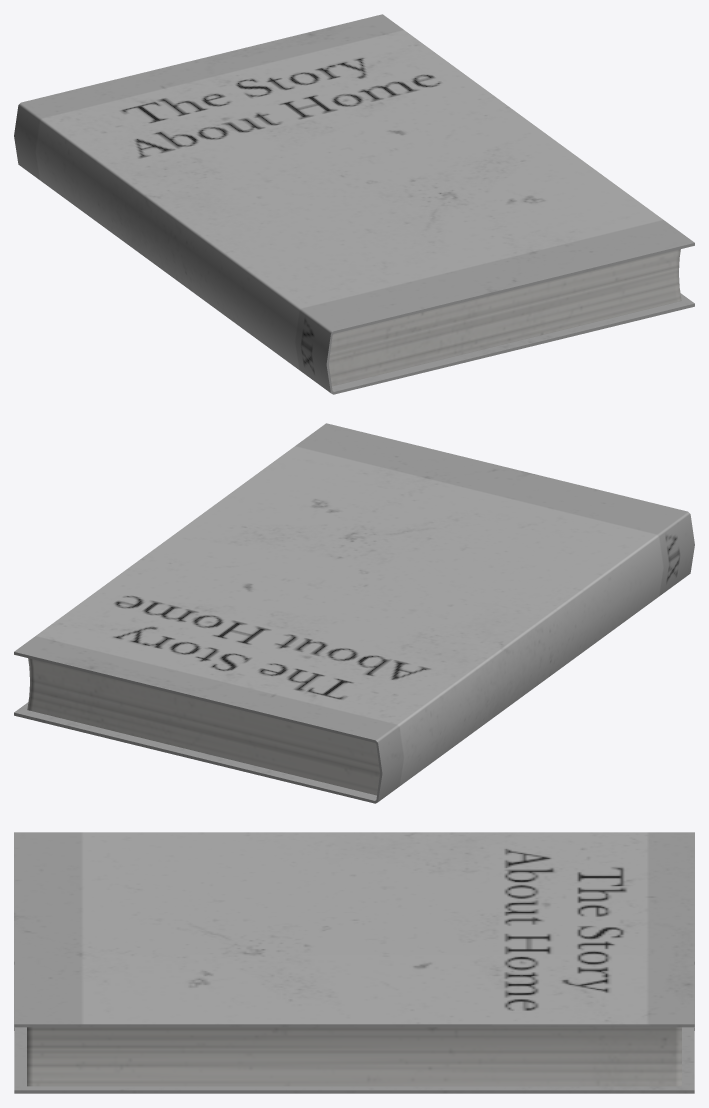
File: SM_BookF.fbx
The picture shows the model from 3 angles, top to bottom: view 1: azimuth 30°, elevation 25°; view 2: azimuth 150°, elevation 25°; view 3: azimuth 270°, elevation 25°; orthographic projection. The views are drawn at different scales.
Parts seen in each view (by area): view 1: SM_BookF_LOD0; view 2: SM_BookF_LOD0; view 3: SM_BookF_LOD0.
Part boxes in pixels (bbox=[...]): SM_BookF_LOD0: bbox=[14, 14, 694, 394]; SM_BookF_LOD0: bbox=[14, 423, 694, 803]; SM_BookF_LOD0: bbox=[14, 832, 694, 1093].
Bounding box in the file's own units: 14.64 × 21.5 × 2.42.
Materials: 1 (1 with a texture image).
